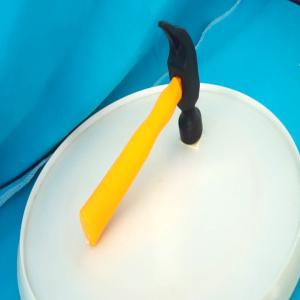martelo: (78, 19, 203, 248)
